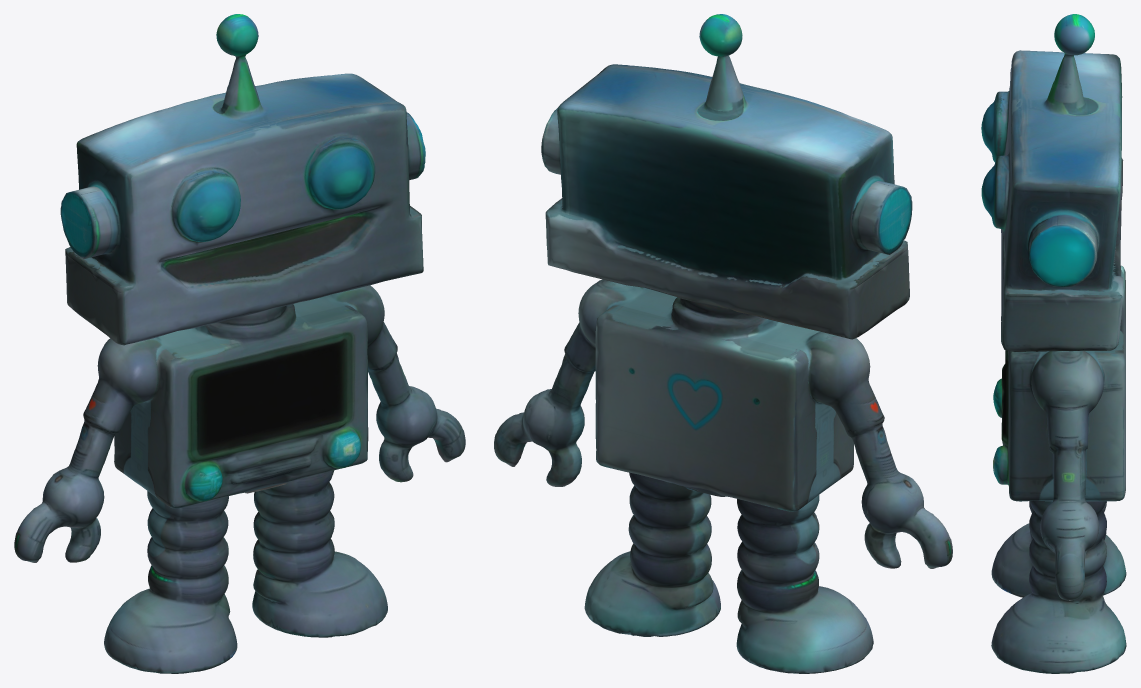
The model's file is herbie_0806222400.glb.
3 views of the same model, side by side, from view 1: azimuth 30°, elevation 25°; view 2: azimuth 150°, elevation 25°; view 3: azimuth 270°, elevation 25° (orthographic). The views are drawn at different scales.
Size of the model in its own units: 1.55 by 2 by 0.4423.
Materials: 1 (1 with a texture image).
